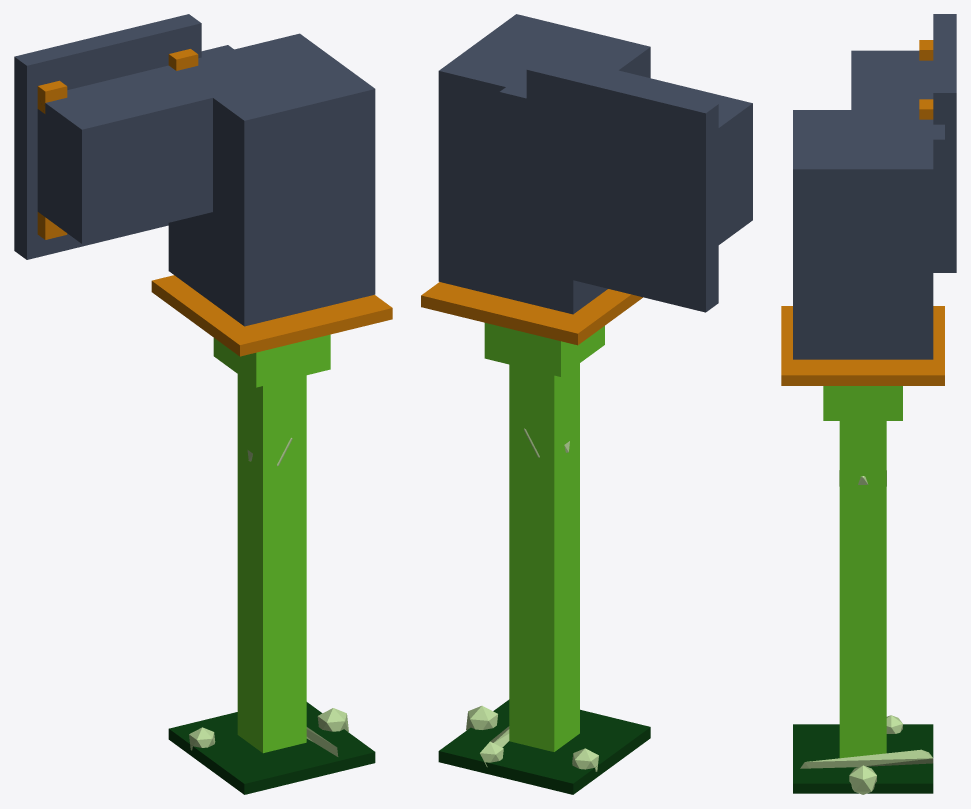
File: SM_Acid_Pipe_Drip.glb
3 views of the same model, side by side, from view 1: azimuth 30°, elevation 25°; view 2: azimuth 150°, elevation 25°; view 3: azimuth 270°, elevation 25° (orthographic). The views are drawn at different scales.
Parts seen in each view (by area): view 1: SM_Acid_Pipe_Drip-col; view 2: SM_Acid_Pipe_Drip-col; view 3: SM_Acid_Pipe_Drip-col.
Part boxes in pixels (left/top/right/bottom): SM_Acid_Pipe_Drip-col: left=14, top=14, right=392, bottom=794; SM_Acid_Pipe_Drip-col: left=421, top=14, right=752, bottom=794; SM_Acid_Pipe_Drip-col: left=781, top=14, right=956, bottom=794.
Size of the model in its own units: 1.3 by 3.12 by 0.75.
